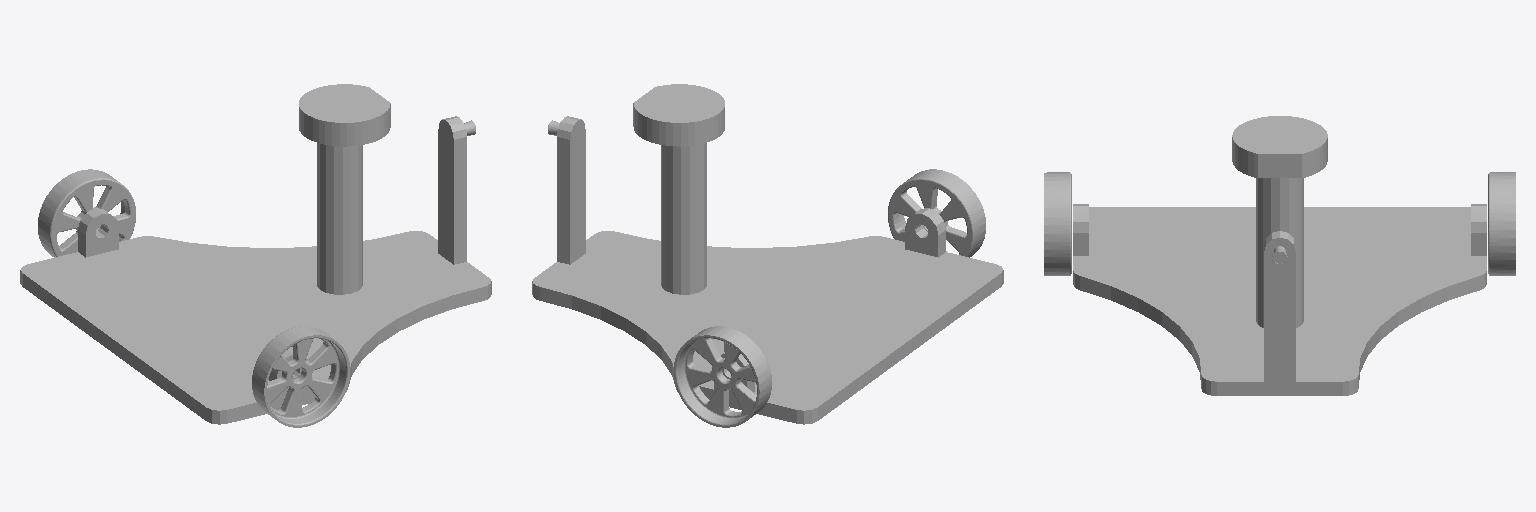
The robot description file, URDF, robot "my_robot":
<?xml version="1.0" encoding="utf-8"?>
<!-- This URDF was automatically created by SolidWorks to URDF Exporter! Originally created by [author] ([email redacted]) 
     Commit Version: 1.6.0-1-g15f4949  Build Version: 1.6.7594.29634
     For more information, please see http://wiki.ros.org/sw_urdf_exporter -->
<robot
  name="my_robot">
  <link
    name="base_link">
    <inertial>
      <origin
        xyz="-0.0478071641380312 -2.38628594066703E-10 0.0258324072433607"
        rpy="0 0 0" />
      <mass
        value="0.656395729208637" />
      <inertia
        ixx="0.00328820616188316"
        ixy="1.99024374087273E-11"
        ixz="-0.000742657464458046"
        iyy="0.0043728788480763"
        iyz="-2.30681043966679E-11"
        izz="0.00539479591561608" />
    </inertial>
    <visual>
      <origin
        xyz="0 0 0"
        rpy="0 0 0" />
      <geometry>
        <mesh
          filename="package://my_robot/meshes/base_link.STL" />
      </geometry>
      <material
        name="">
        <color
          rgba="0.752941176470588 0.752941176470588 0.752941176470588 1" />
      </material>
    </visual>
    <collision>
      <origin
        xyz="0 0 0"
        rpy="0 0 0" />
      <geometry>
        <mesh
          filename="package://my_robot/meshes/base_link.STL" />
      </geometry>
    </collision>
  </link>
  <link
    name="lwheel_link">
    <inertial>
      <origin
        xyz="2.77555756156289E-17 -0.00295821946504571 3.46944695195361E-18"
        rpy="0 0 0" />
      <mass
        value="0.0203132942311367" />
      <inertia
        ixx="7.33043982917312E-06"
        ixy="-9.85185651628011E-22"
        ixz="7.26526378667896E-21"
        iyy="1.39291601103077E-05"
        iyz="6.76186669892179E-22"
        izz="7.33043982917311E-06" />
    </inertial>
    <visual>
      <origin
        xyz="0 0 0"
        rpy="0 0 0" />
      <geometry>
        <mesh
          filename="package://my_robot/meshes/lwheel_link.STL" />
      </geometry>
      <material
        name="">
        <color
          rgba="0.752941176470588 0.752941176470588 0.752941176470588 1" />
      </material>
    </visual>
    <collision>
      <origin
        xyz="0 0 0"
        rpy="0 0 0" />
      <geometry>
        <mesh
          filename="package://my_robot/meshes/lwheel_link.STL" />
      </geometry>
    </collision>
  </link>
  <joint
    name="lwheel_joint"
    type="continuous">
    <origin
      xyz="-0.11 0.1395 0.026"
      rpy="0 0 0" />
    <parent
      link="base_link" />
    <child
      link="lwheel_link" />
    <axis
      xyz="0 -1 0" />
  </joint>
  <link
    name="rwheel_link">
    <inertial>
      <origin
        xyz="2.77555756156289E-17 0.00295821946504568 -1.04083408558608E-17"
        rpy="0 0 0" />
      <mass
        value="0.0203132942311367" />
      <inertia
        ixx="7.33043982917312E-06"
        ixy="-8.46234199053029E-22"
        ixz="-7.29672355957917E-21"
        iyy="1.39291601103077E-05"
        iyz="-8.21360038164745E-22"
        izz="7.33043982917312E-06" />
    </inertial>
    <visual>
      <origin
        xyz="0 0 0"
        rpy="0 0 0" />
      <geometry>
        <mesh
          filename="package://my_robot/meshes/rwheel_link.STL" />
      </geometry>
      <material
        name="">
        <color
          rgba="0.752941176470588 0.752941176470588 0.752941176470588 1" />
      </material>
    </visual>
    <collision>
      <origin
        xyz="0 0 0"
        rpy="0 0 0" />
      <geometry>
        <mesh
          filename="package://my_robot/meshes/rwheel_link.STL" />
      </geometry>
    </collision>
  </link>
  <joint
    name="rwheel_joint"
    type="continuous">
    <origin
      xyz="-0.11 -0.1395 0.026"
      rpy="0 0 0" />
    <parent
      link="base_link" />
    <child
      link="rwheel_link" />
    <axis
      xyz="0 1 0" />
  </joint>
</robot>

--- What the picture shows (computed from the rendered views, not written in the file) ---
The picture shows the robot from 3 angles, left to right: view 1: azimuth 30°, elevation 25°; view 2: azimuth 150°, elevation 25°; view 3: azimuth 270°, elevation 25°; orthographic projection.
Model my_robot with 3 links and 2 joints (2 continuous), rooted at base_link, posed all joints at 0.
Visible links, largest first — view 1: base_link, rwheel_link, lwheel_link; view 2: base_link, lwheel_link, rwheel_link; view 3: base_link, lwheel_link, rwheel_link.
Boxes of the visible links, box(x1,y1,x2,y2) form: base_link: box(20, 84, 491, 424); rwheel_link: box(252, 326, 349, 427); lwheel_link: box(38, 169, 135, 257); base_link: box(532, 84, 1003, 424); lwheel_link: box(673, 326, 771, 427); rwheel_link: box(888, 169, 985, 257); base_link: box(1073, 116, 1486, 395); lwheel_link: box(1488, 172, 1515, 275); rwheel_link: box(1044, 172, 1071, 275).
Bounding box of the posed robot: 0.27 × 0.296 × 0.1465 m (x, y, z).
3 mesh visuals loaded from 3 distinct referenced files (3 binary STL).